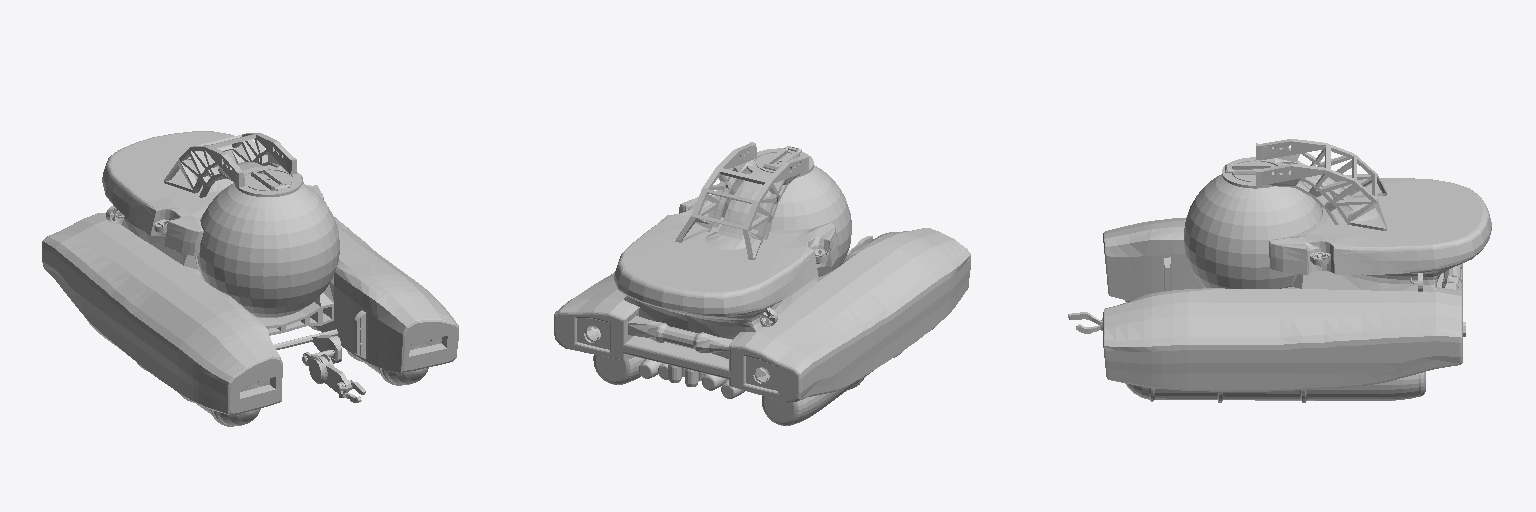
Rendered from submarine_hyper.obj.
The picture shows the model from 3 angles: view 1: azimuth 30°, elevation 25°; view 2: azimuth 150°, elevation 25°; view 3: azimuth 270°, elevation 25°; orthographic projection.
Visible parts, largest first — view 1: bodywork_Sphere.004, waterproof_zone_Sphere.002, skeleton__and_cockpit_Cylinder; view 2: bodywork_Sphere.004, skeleton__and_cockpit_Cylinder, waterproof_zone_Sphere.002; view 3: bodywork_Sphere.004, skeleton__and_cockpit_Cylinder, waterproof_zone_Sphere.002.
Boxes of the visible parts, x1=… form: bodywork_Sphere.004: x1=42, y1=131, x2=458, y2=414; waterproof_zone_Sphere.002: x1=197, y1=183, x2=339, y2=317; skeleton__and_cockpit_Cylinder: x1=84, y1=133, x2=428, y2=426; bodywork_Sphere.004: x1=554, y1=194, x2=970, y2=402; skeleton__and_cockpit_Cylinder: x1=593, y1=142, x2=934, y2=425; waterproof_zone_Sphere.002: x1=721, y1=165, x2=851, y2=276; bodywork_Sphere.004: x1=1068, y1=178, x2=1491, y2=391; skeleton__and_cockpit_Cylinder: x1=1125, y1=139, x2=1425, y2=402; waterproof_zone_Sphere.002: x1=1184, y1=174, x2=1322, y2=288.
Bounding box in the file's own units: 3.7 × 2.95 × 5.48.